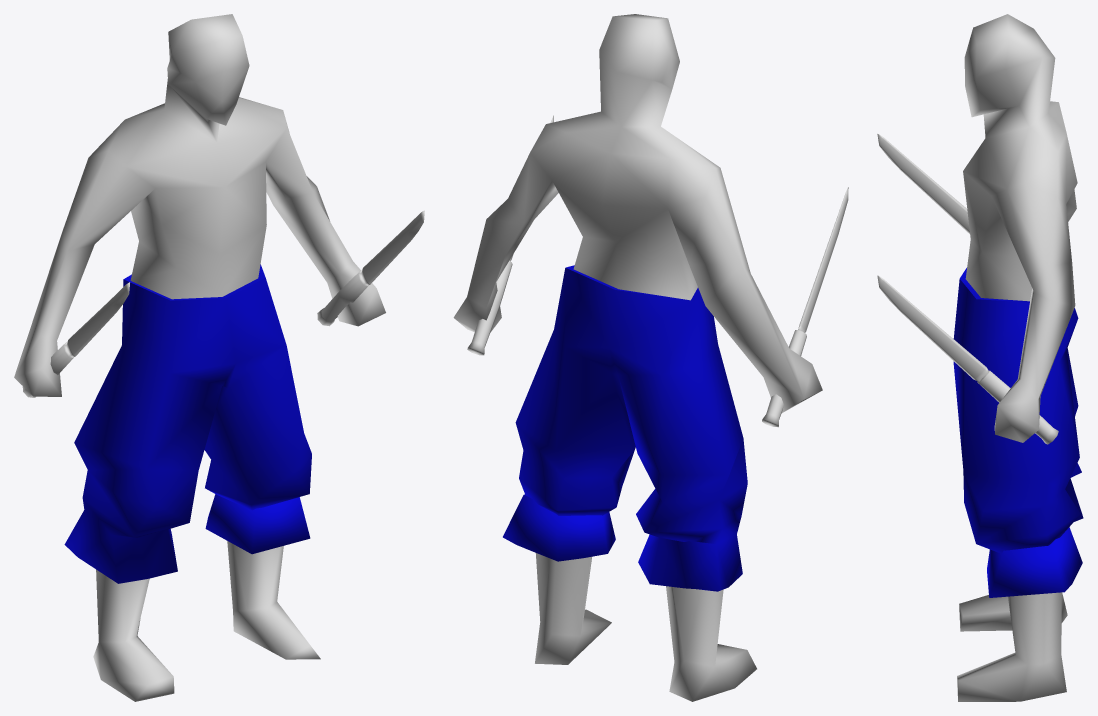
Rendered from VoleurAllié.fbx.
3 views of the same model, side by side, from view 1: azimuth 30°, elevation 25°; view 2: azimuth 150°, elevation 25°; view 3: azimuth 270°, elevation 25° (orthographic).
Visible parts, largest first — view 1: Connect_2.001; view 2: Connect_2.001; view 3: Connect_2.001.
Boxes of the visible parts, x1,y1,x2,y2 form: Connect_2.001: (14,14,424,701); Connect_2.001: (453,14,848,701); Connect_2.001: (877,14,1083,701).
Bounding box in the file's own units: 107 × 188 × 55.19.
